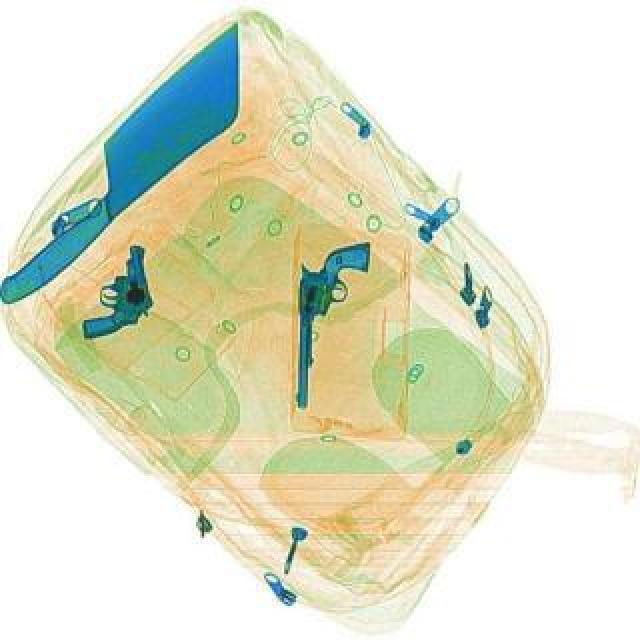gun: (290, 240, 370, 406), (64, 240, 162, 338)
knife: (0, 16, 292, 274)
